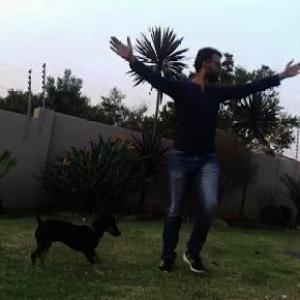takeoff: (110, 37, 294, 274)
